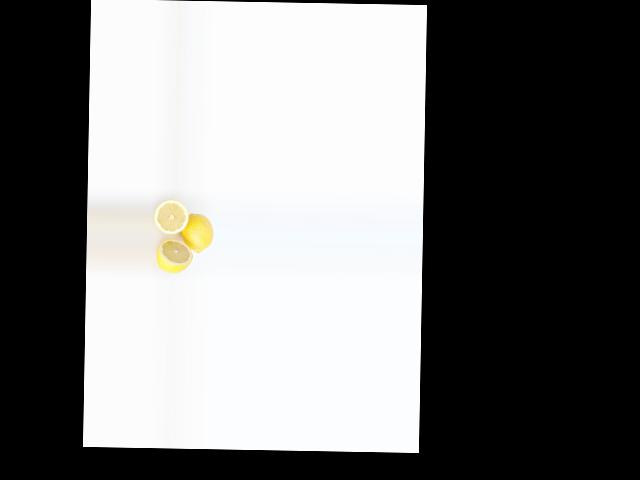lemon: (181, 209, 214, 256)
